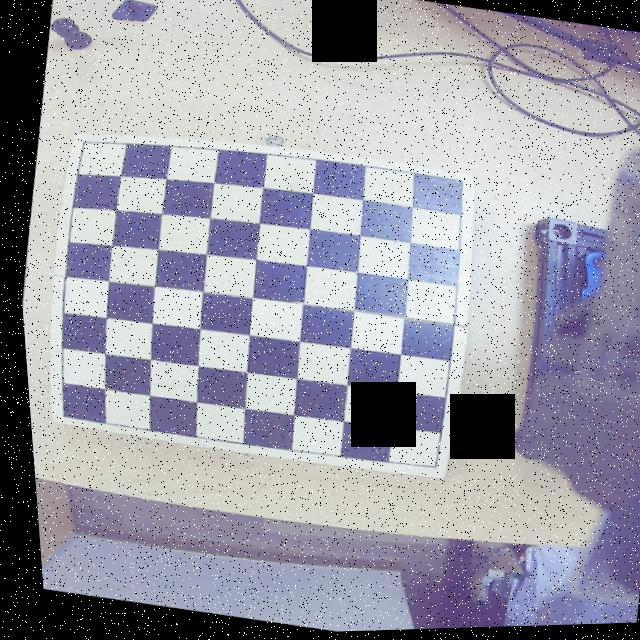chess-table-corners: (439, 174, 469, 202), (41, 404, 72, 426), (412, 454, 438, 480), (66, 134, 92, 157)
